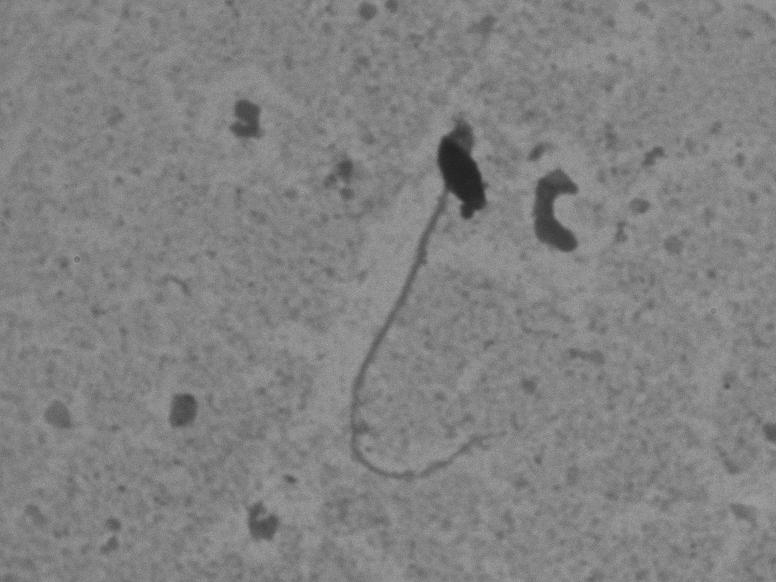Abnormal: (319, 109, 564, 499)
